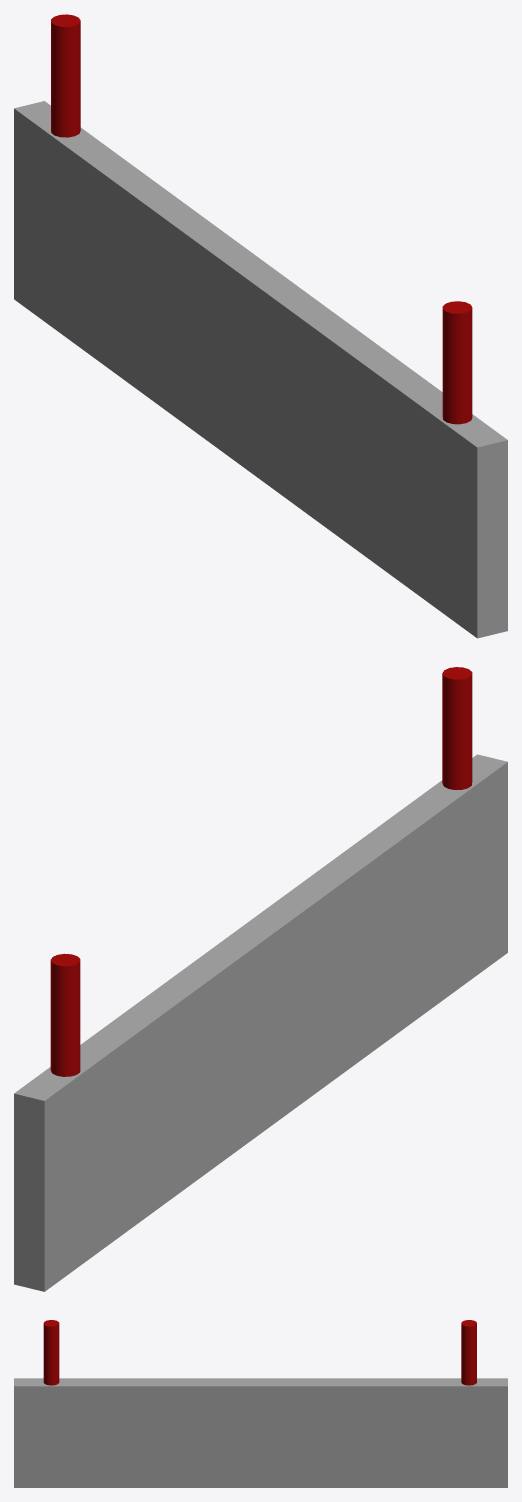
Rendered from Sign_01.fbx.
The picture shows the model from 3 angles, top to bottom: view 1: azimuth 30°, elevation 25°; view 2: azimuth 150°, elevation 25°; view 3: azimuth 270°, elevation 25°; orthographic projection. The views are drawn at different scales.
Parts seen in each view (by area): view 1: Sign_01; view 2: Sign_01; view 3: Sign_01.
Boxes of the visible parts, bbox=[...] form: Sign_01: bbox=[14, 14, 507, 638]; Sign_01: bbox=[14, 667, 507, 1291]; Sign_01: bbox=[14, 1320, 507, 1487].
Bounding box in the file's own units: 5.49 × 51.67 × 144.
